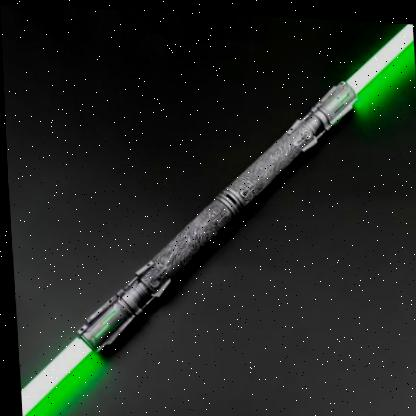lightsaber: (20, 23, 414, 416)
